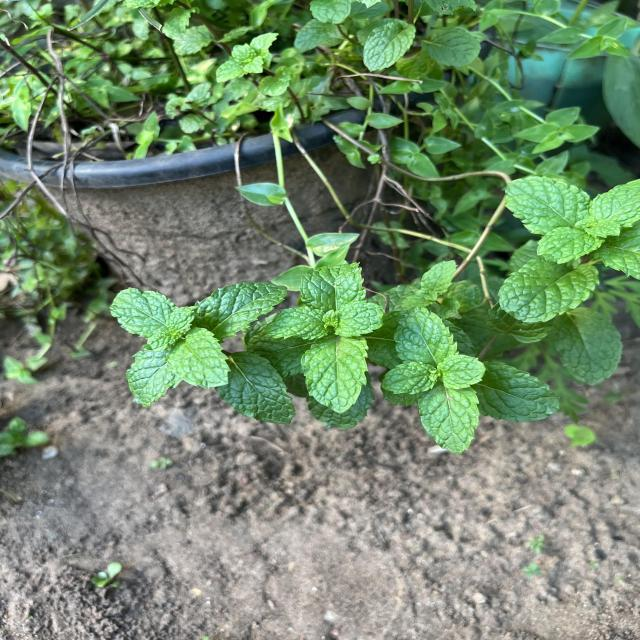Mentha spicata: (496, 256, 602, 325), (216, 350, 296, 426), (192, 281, 289, 342), (300, 334, 370, 416), (504, 174, 592, 234), (480, 361, 562, 424), (164, 327, 233, 390), (418, 388, 480, 456), (392, 306, 459, 366), (108, 287, 176, 338), (535, 226, 604, 265), (263, 306, 327, 342), (381, 360, 436, 396), (334, 301, 384, 338), (437, 354, 487, 390)
